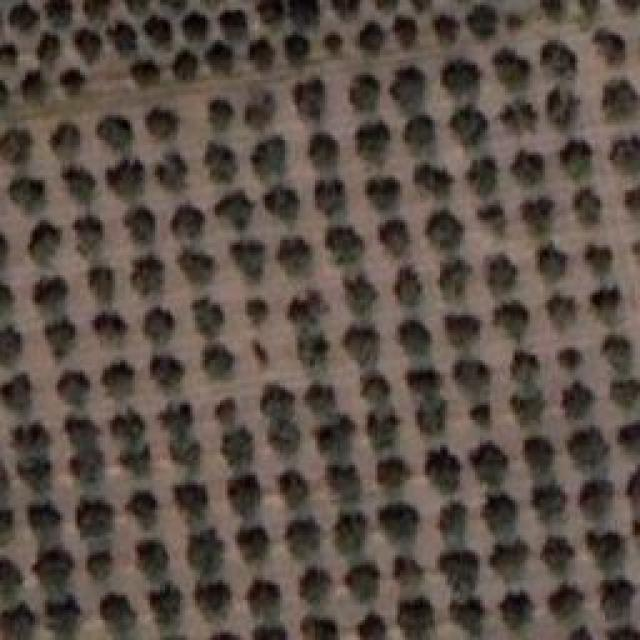Tree: (533, 28, 583, 77), (441, 58, 494, 100), (593, 573, 640, 620), (543, 83, 585, 134), (282, 517, 327, 564), (426, 203, 468, 253), (285, 77, 331, 121), (590, 282, 634, 328), (148, 580, 190, 628), (90, 588, 140, 628), (395, 590, 435, 640), (503, 590, 545, 637), (72, 498, 119, 539), (583, 525, 632, 564), (220, 423, 260, 470), (436, 498, 478, 542), (295, 565, 339, 607), (498, 300, 541, 342), (380, 503, 423, 545), (225, 475, 266, 519), (485, 543, 532, 581), (323, 225, 366, 266), (558, 140, 601, 181), (518, 193, 559, 236), (340, 273, 383, 314), (40, 593, 83, 634), (543, 580, 584, 623), (600, 80, 639, 125), (322, 460, 367, 499), (485, 487, 524, 532), (444, 595, 486, 636), (233, 523, 276, 563), (133, 538, 173, 581), (125, 252, 164, 296), (200, 143, 244, 182), (333, 510, 369, 557), (182, 533, 228, 569), (435, 260, 474, 302), (602, 130, 640, 173), (493, 48, 531, 91), (100, 358, 139, 399), (37, 542, 71, 589), (135, 103, 177, 141), (340, 558, 377, 601), (378, 217, 413, 262), (48, 123, 87, 163), (425, 448, 464, 488), (383, 550, 424, 588), (280, 292, 327, 325), (198, 583, 233, 627), (25, 225, 65, 263), (358, 125, 398, 163), (278, 235, 316, 275), (363, 178, 403, 216), (155, 395, 193, 435), (580, 478, 620, 516), (500, 98, 537, 139), (533, 484, 569, 526), (441, 313, 484, 348), (50, 370, 89, 408), (108, 165, 145, 205), (468, 443, 508, 480), (250, 137, 292, 172), (175, 243, 213, 281), (595, 28, 634, 65), (570, 188, 609, 225), (10, 173, 46, 213), (368, 410, 406, 447), (318, 420, 355, 458), (245, 578, 283, 615), (0, 553, 28, 603), (265, 420, 306, 454), (218, 190, 254, 228), (233, 238, 269, 276), (303, 135, 341, 171), (450, 108, 488, 144), (488, 255, 524, 293), (440, 548, 476, 586), (55, 65, 94, 100), (265, 185, 304, 220), (123, 488, 162, 523), (170, 45, 204, 85), (343, 328, 383, 362), (570, 428, 610, 462), (145, 15, 181, 52), (400, 115, 436, 152), (315, 178, 353, 213), (415, 160, 453, 195), (0, 605, 38, 640), (30, 273, 69, 307), (393, 268, 427, 307), (125, 205, 158, 245), (38, 320, 80, 351), (95, 308, 130, 345), (13, 455, 50, 490), (140, 305, 178, 339), (558, 390, 596, 424), (275, 470, 309, 508), (300, 375, 336, 410), (363, 373, 398, 409), (193, 298, 230, 332), (247, 95, 281, 132), (348, 80, 385, 114), (585, 240, 619, 277), (3, 2, 41, 35), (172, 475, 205, 513), (537, 533, 570, 571), (0, 125, 34, 161), (393, 72, 429, 106), (600, 335, 634, 371), (212, 5, 245, 42), (535, 248, 568, 285), (522, 433, 555, 470), (65, 160, 96, 199), (297, 615, 345, 640), (547, 293, 579, 330), (245, 334, 277, 371), (355, 15, 386, 53), (3, 375, 37, 409), (398, 322, 432, 356), (25, 503, 59, 537), (65, 410, 98, 445), (278, 33, 315, 64), (285, 0, 323, 30), (510, 150, 544, 183), (300, 335, 333, 369), (205, 343, 238, 377), (415, 400, 446, 436), (206, 95, 236, 132), (450, 361, 491, 388), (377, 455, 410, 488), (152, 355, 186, 387), (258, 380, 293, 411), (408, 365, 444, 395), (163, 153, 192, 190), (473, 153, 501, 191), (8, 423, 46, 451), (110, 410, 148, 438), (127, 60, 160, 92), (173, 440, 207, 471), (98, 115, 128, 150), (83, 548, 111, 585), (18, 67, 48, 101), (394, 13, 424, 47), (477, 200, 511, 230), (505, 355, 536, 387), (430, 12, 460, 45), (470, 2, 500, 35), (552, 348, 585, 378), (252, 617, 296, 639), (33, 33, 64, 64), (85, 265, 116, 296), (610, 377, 640, 409), (465, 404, 497, 434), (75, 215, 103, 249), (355, 615, 393, 640), (73, 33, 100, 67), (513, 393, 547, 420), (118, 444, 148, 474), (170, 205, 202, 233), (40, 0, 75, 25), (72, 451, 104, 478), (107, 28, 140, 53), (258, 0, 291, 25), (250, 35, 274, 69), (78, 0, 115, 22), (178, 10, 203, 42), (245, 293, 274, 320), (0, 328, 22, 362), (622, 180, 640, 220), (617, 422, 640, 452), (0, 40, 19, 75), (213, 395, 239, 420), (327, 0, 359, 20), (505, 13, 531, 37), (535, 0, 565, 20), (202, 40, 224, 66), (610, 0, 640, 18), (573, 0, 598, 18), (372, 0, 400, 16), (322, 28, 343, 47), (408, 0, 430, 10)
